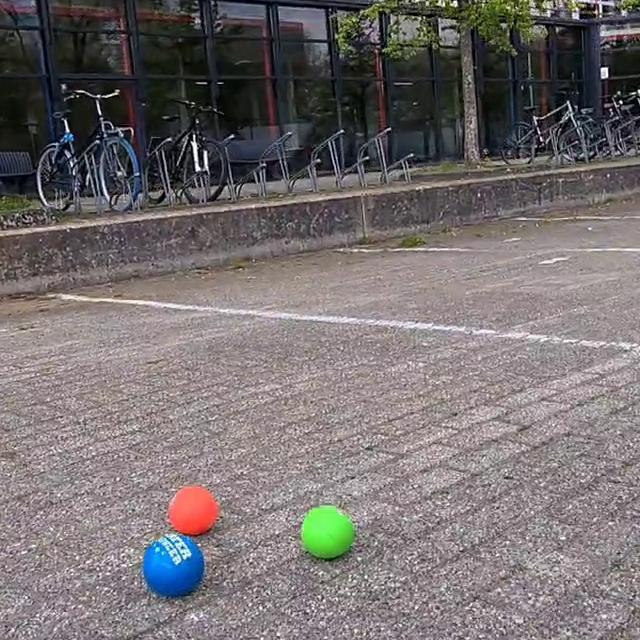ball: (299, 504, 358, 561), (168, 480, 220, 537)
